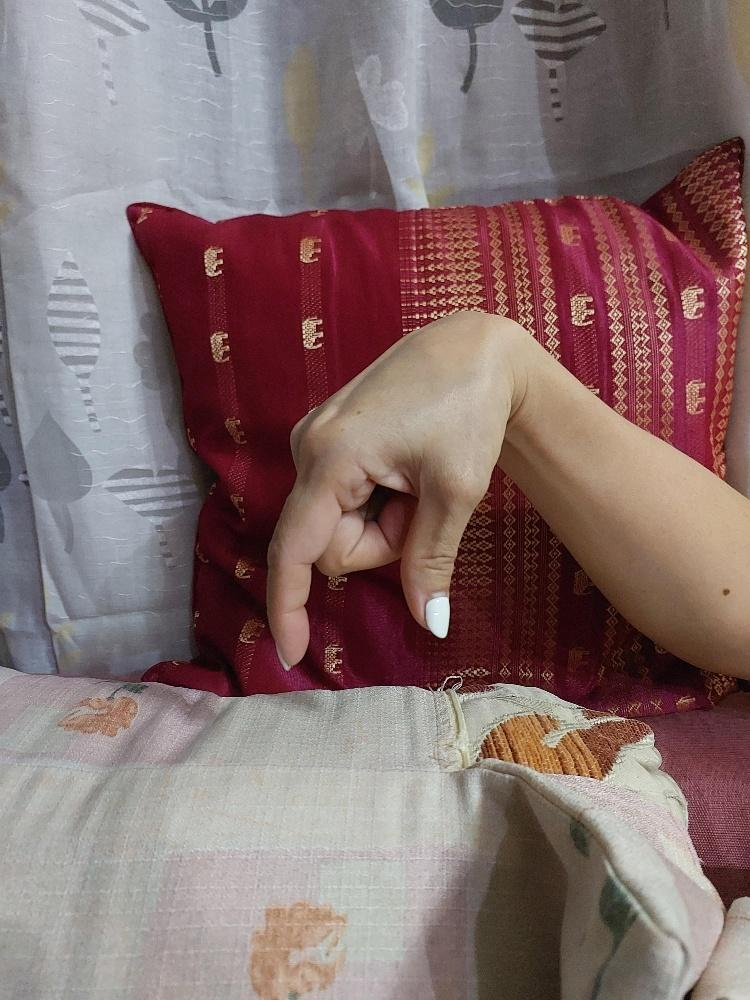q: (261, 304, 514, 676)
